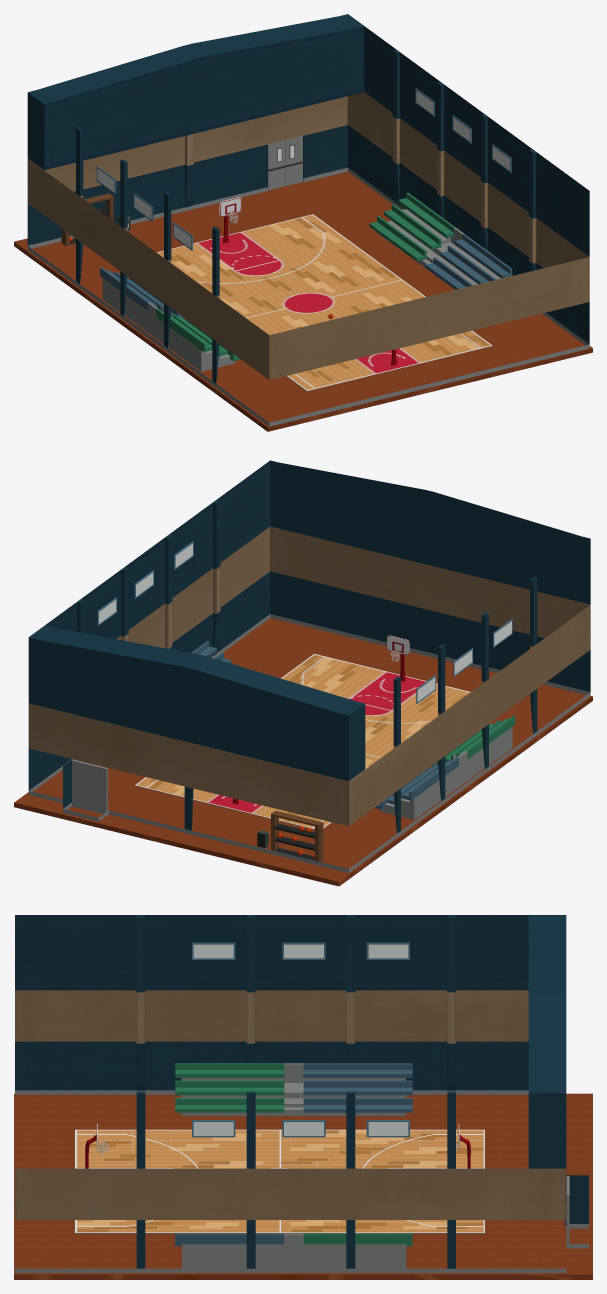
The model's file is canchaBasquetV5.fbx.
3 views of the same model, one above another, from view 1: azimuth 30°, elevation 25°; view 2: azimuth 150°, elevation 25°; view 3: azimuth 270°, elevation 25° (orthographic). The views are drawn at different scales.
Parts seen in each view (by area): view 1: edificio, piso.002, cancha, castillos, gradasVerdes, gradasAzules, gradasVerdesIzq, gradasAzulesIzq, puerta.002, estante; view 2: edificio, piso.002, cancha, castillos, gradasAzulesIzq, gradasVerdesIzq, puerta.002, estante; view 3: edificio, piso.002, cancha, castillos, gradasVerdesIzq, gradasAzulesIzq, gradasVerdes, gradasAzules, ventana2, ventana5, ventana, ventana3 (+2 smaller).
Boxes of the visible parts, box(x1,y1,x2,y2) form: edificio: box(27, 14, 589, 426); piso.002: box(14, 171, 592, 431); cancha: box(156, 214, 492, 391); castillos: box(76, 50, 536, 383); gradasVerdes: box(369, 192, 463, 273); gradasAzules: box(425, 234, 512, 289); gradasVerdesIzq: box(145, 302, 240, 371); gradasAzulesIzq: box(100, 267, 184, 329); puerta.002: box(268, 136, 303, 190); estante: box(61, 193, 113, 246); edificio: box(28, 460, 590, 872); piso.002: box(14, 618, 592, 886); cancha: box(134, 654, 470, 829); castillos: box(77, 499, 537, 833); gradasAzulesIzq: box(374, 757, 458, 819); gradasVerdesIzq: box(431, 716, 515, 788); puerta.002: box(72, 759, 108, 813); estante: box(271, 810, 323, 862); edificio: box(15, 915, 588, 1272); piso.002: box(14, 1093, 592, 1279); cancha: box(75, 1129, 484, 1233); castillos: box(136, 915, 455, 1268); gradasVerdesIzq: box(175, 1063, 309, 1115); gradasAzulesIzq: box(303, 1063, 412, 1115); gradasVerdes: box(278, 1233, 412, 1268); gradasAzules: box(175, 1233, 283, 1268); ventana2: box(282, 942, 325, 959); ventana5: box(282, 1120, 325, 1137); ventana: box(366, 942, 409, 959); ventana3: box(192, 942, 235, 959).
Size of the model in its own units: 26012 by 13026 by 35158.
